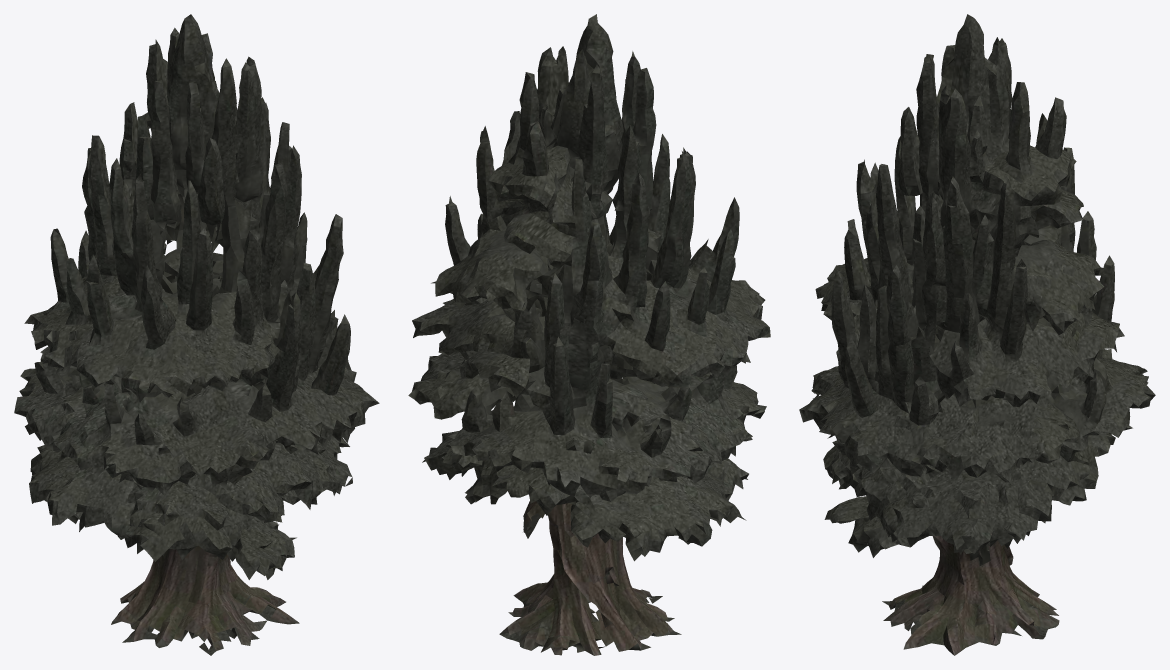
3 views of the same model, side by side, from view 1: azimuth 30°, elevation 25°; view 2: azimuth 150°, elevation 25°; view 3: azimuth 270°, elevation 25° (orthographic).
Parts seen in each view (by area): view 1: m5.glb; view 2: m5.glb; view 3: m5.glb.
Part boxes in pixels (left/top/right/bottom): m5.glb: left=14, top=14, right=379, bottom=655; m5.glb: left=408, top=14, right=770, bottom=655; m5.glb: left=799, top=14, right=1155, bottom=655.
Size of the model in its own units: 1.01 by 1.89 by 1.02.
1 material, 1 textured.
